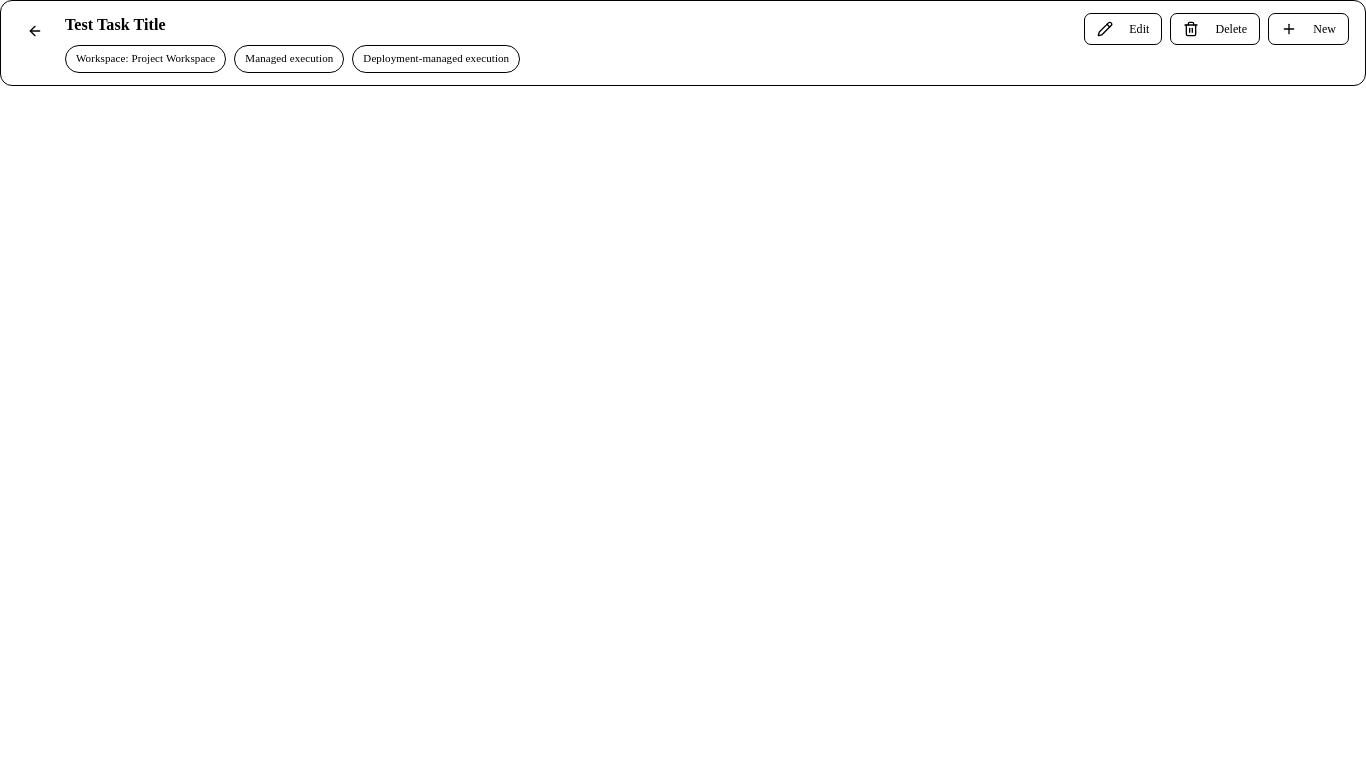
it: TaskHeader › Delete Button › keeps the dialog open and shows inline i18n copy when backend rejects delete blockers
Click the button "Delete" at [1215, 29], box [1170, 13, 1260, 45]
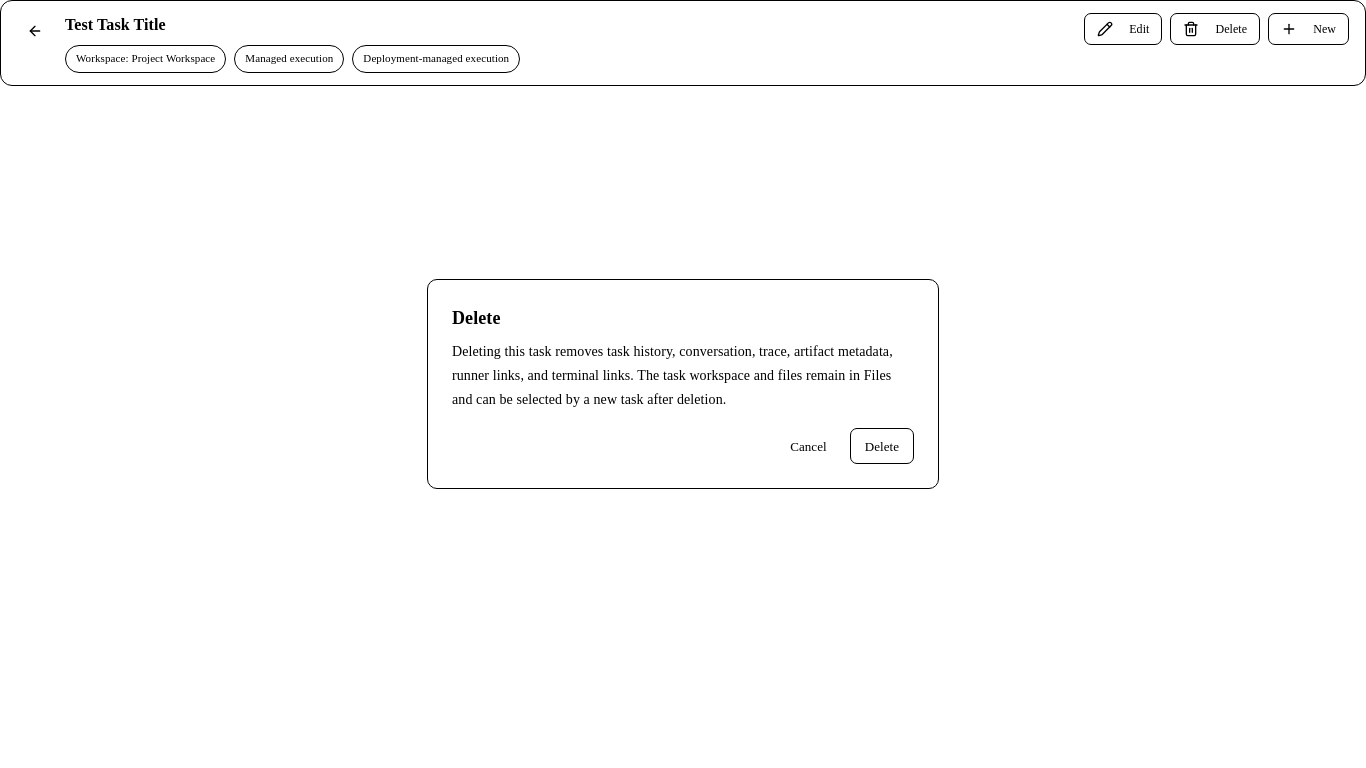
Click the button "Delete" at [882, 446], box [850, 428, 914, 464]
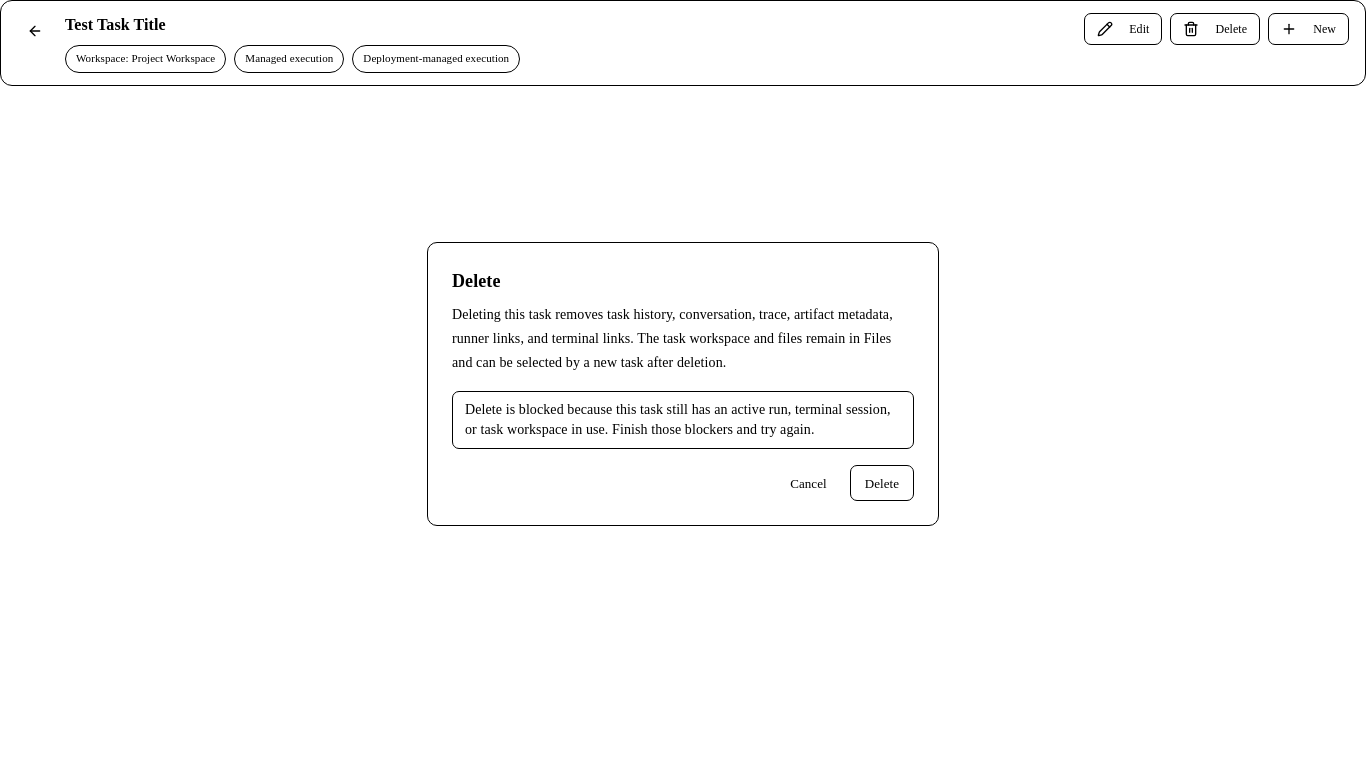
Expected: the dialog is shown, [427, 242, 939, 526]
Expected: the message with test id "agent-task__delete-blocked-error" shows "Delete is blocked because this task still has an active run, terminal session, or task workspace in use. Finish those blockers and try again.", [465, 402, 891, 437]
